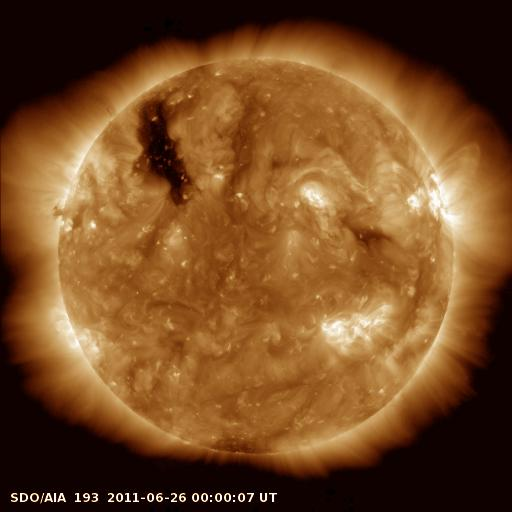coronal_hole: (128, 96, 203, 208)
